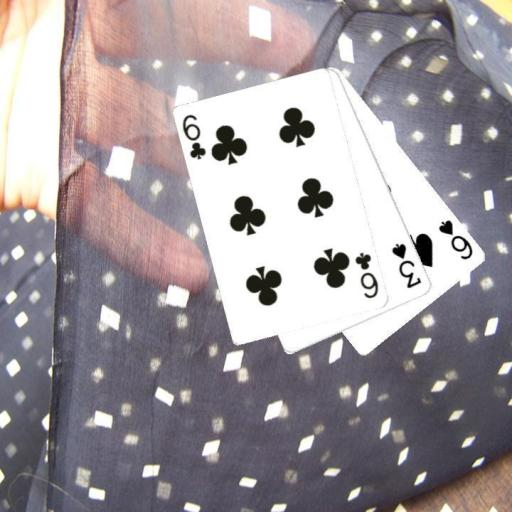card-corner: (435, 216, 475, 262), (388, 240, 423, 290), (352, 250, 380, 300), (180, 111, 208, 161)
